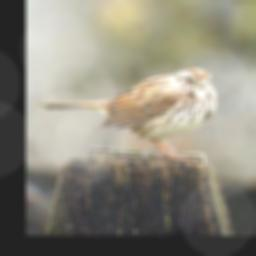Sparrow: (37, 67, 217, 161)
